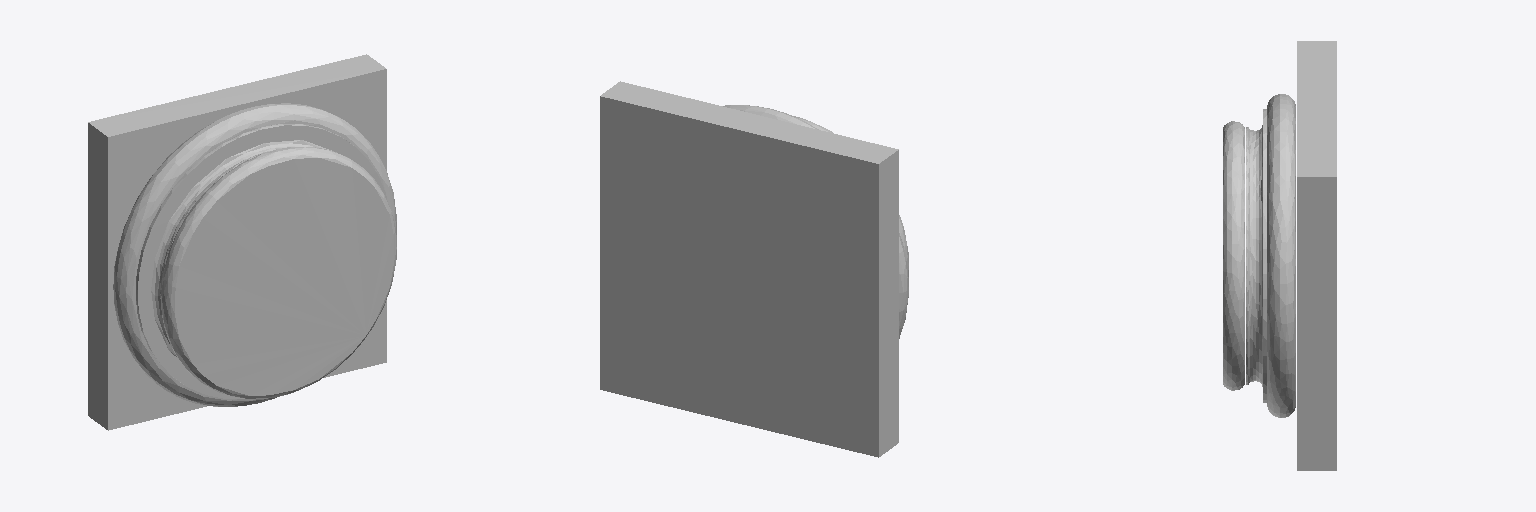
The picture shows the model from 3 angles: view 1: azimuth 30°, elevation 25°; view 2: azimuth 150°, elevation 25°; view 3: azimuth 270°, elevation 25°; orthographic projection.
Parts seen in each view (by area): view 1: US04; view 2: US04; view 3: US04.
Boxes of the visible parts, x1,y1,x2,y2 form: US04: [88, 54, 396, 430]; US04: [600, 81, 908, 457]; US04: [1223, 41, 1336, 470].
Bounding box in the file's own units: 1.01 × 1.01 × 0.3568.